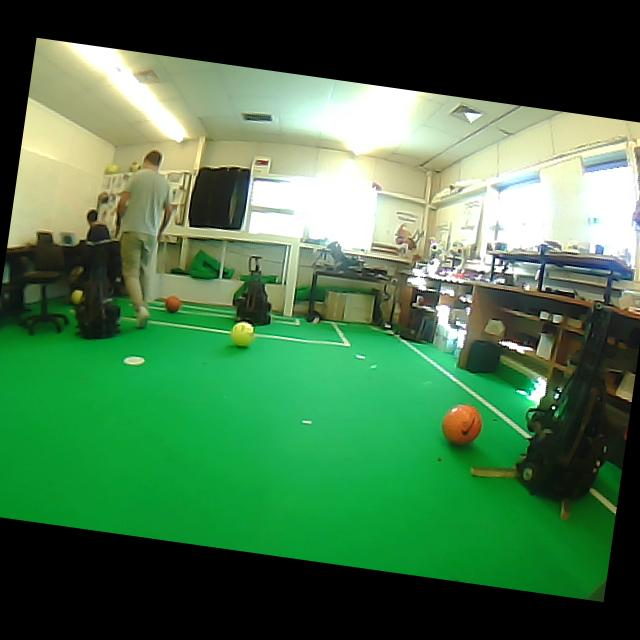ball: (442, 404, 482, 445), (230, 321, 254, 347), (165, 295, 181, 313), (70, 289, 85, 305), (105, 163, 119, 174), (129, 163, 141, 172)
goal: (283, 239, 299, 316)
robot: (517, 310, 611, 500), (77, 268, 121, 339), (233, 256, 270, 325)
